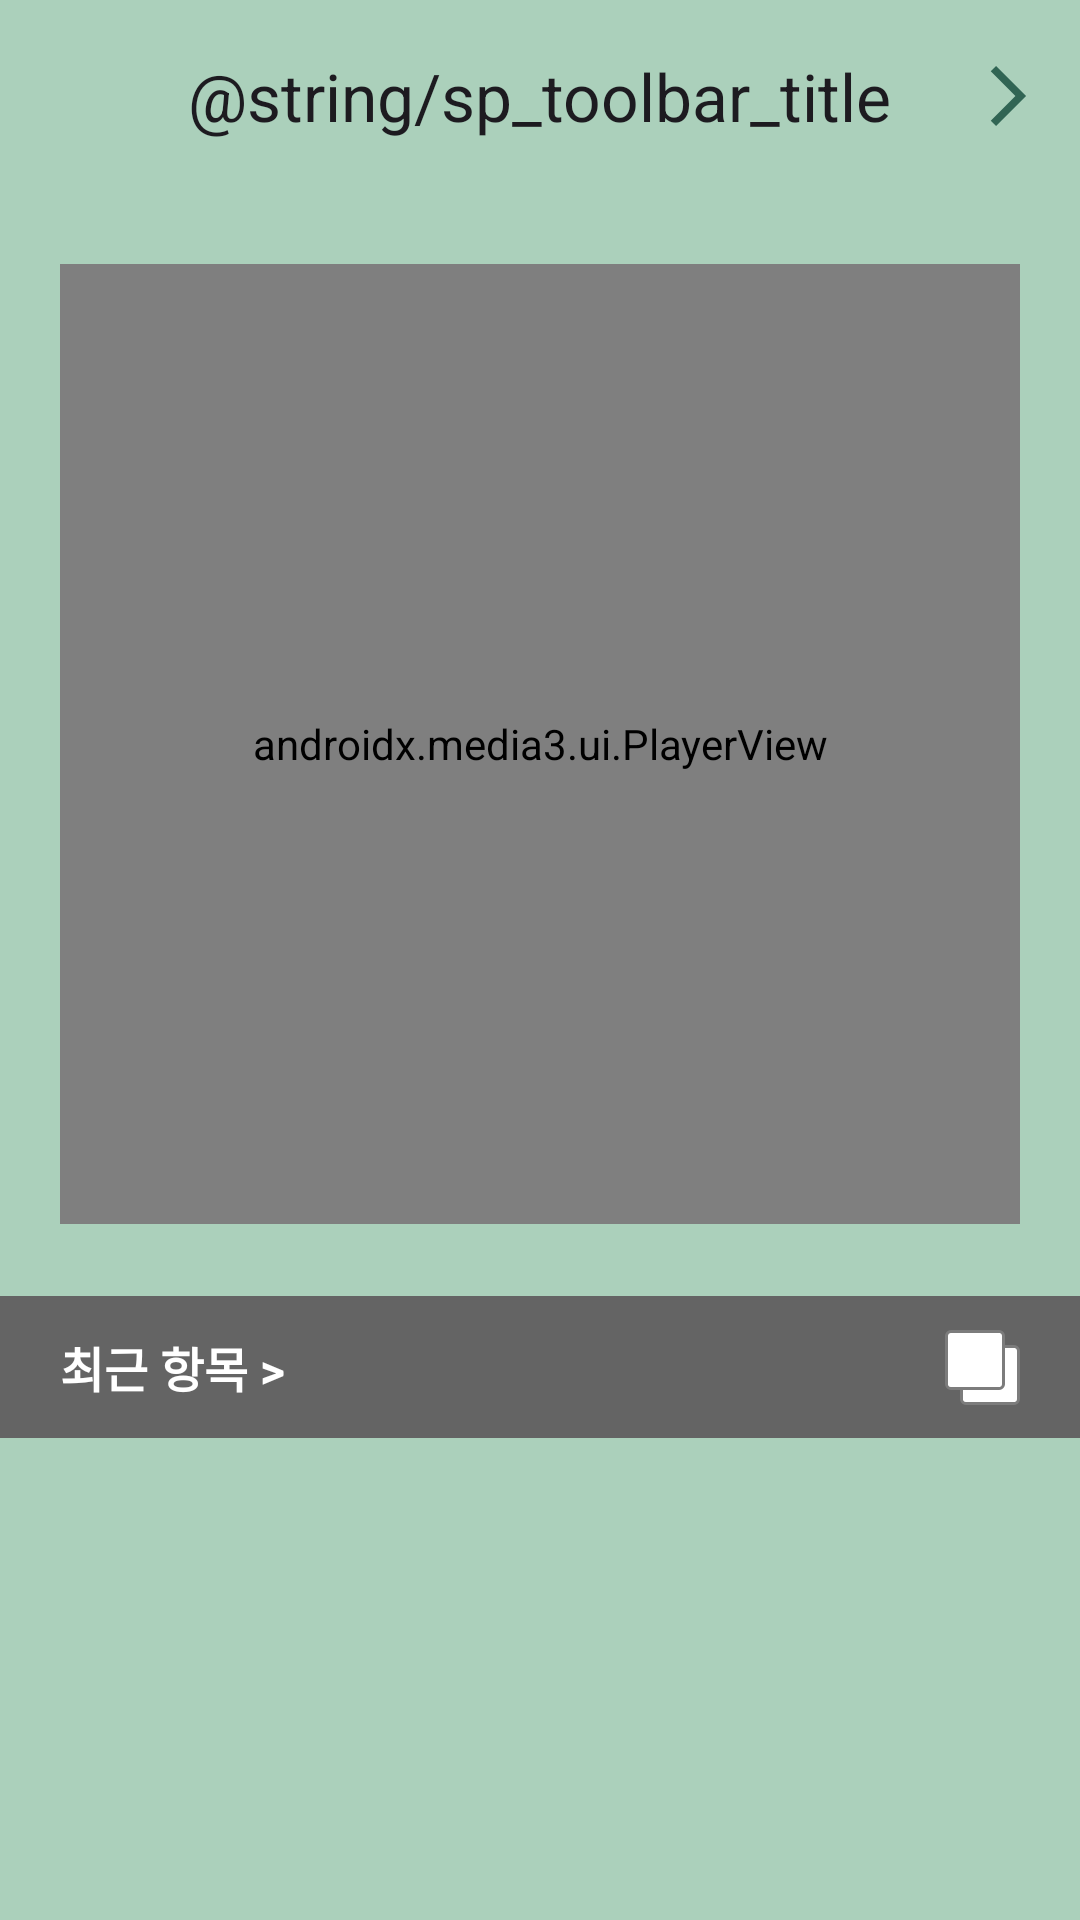

Named icons in this screenshot (1080px x 1920px) and their bounding boxes, (x1, y1, x2, y2):
duplicate: (948, 1333, 1017, 1402)
